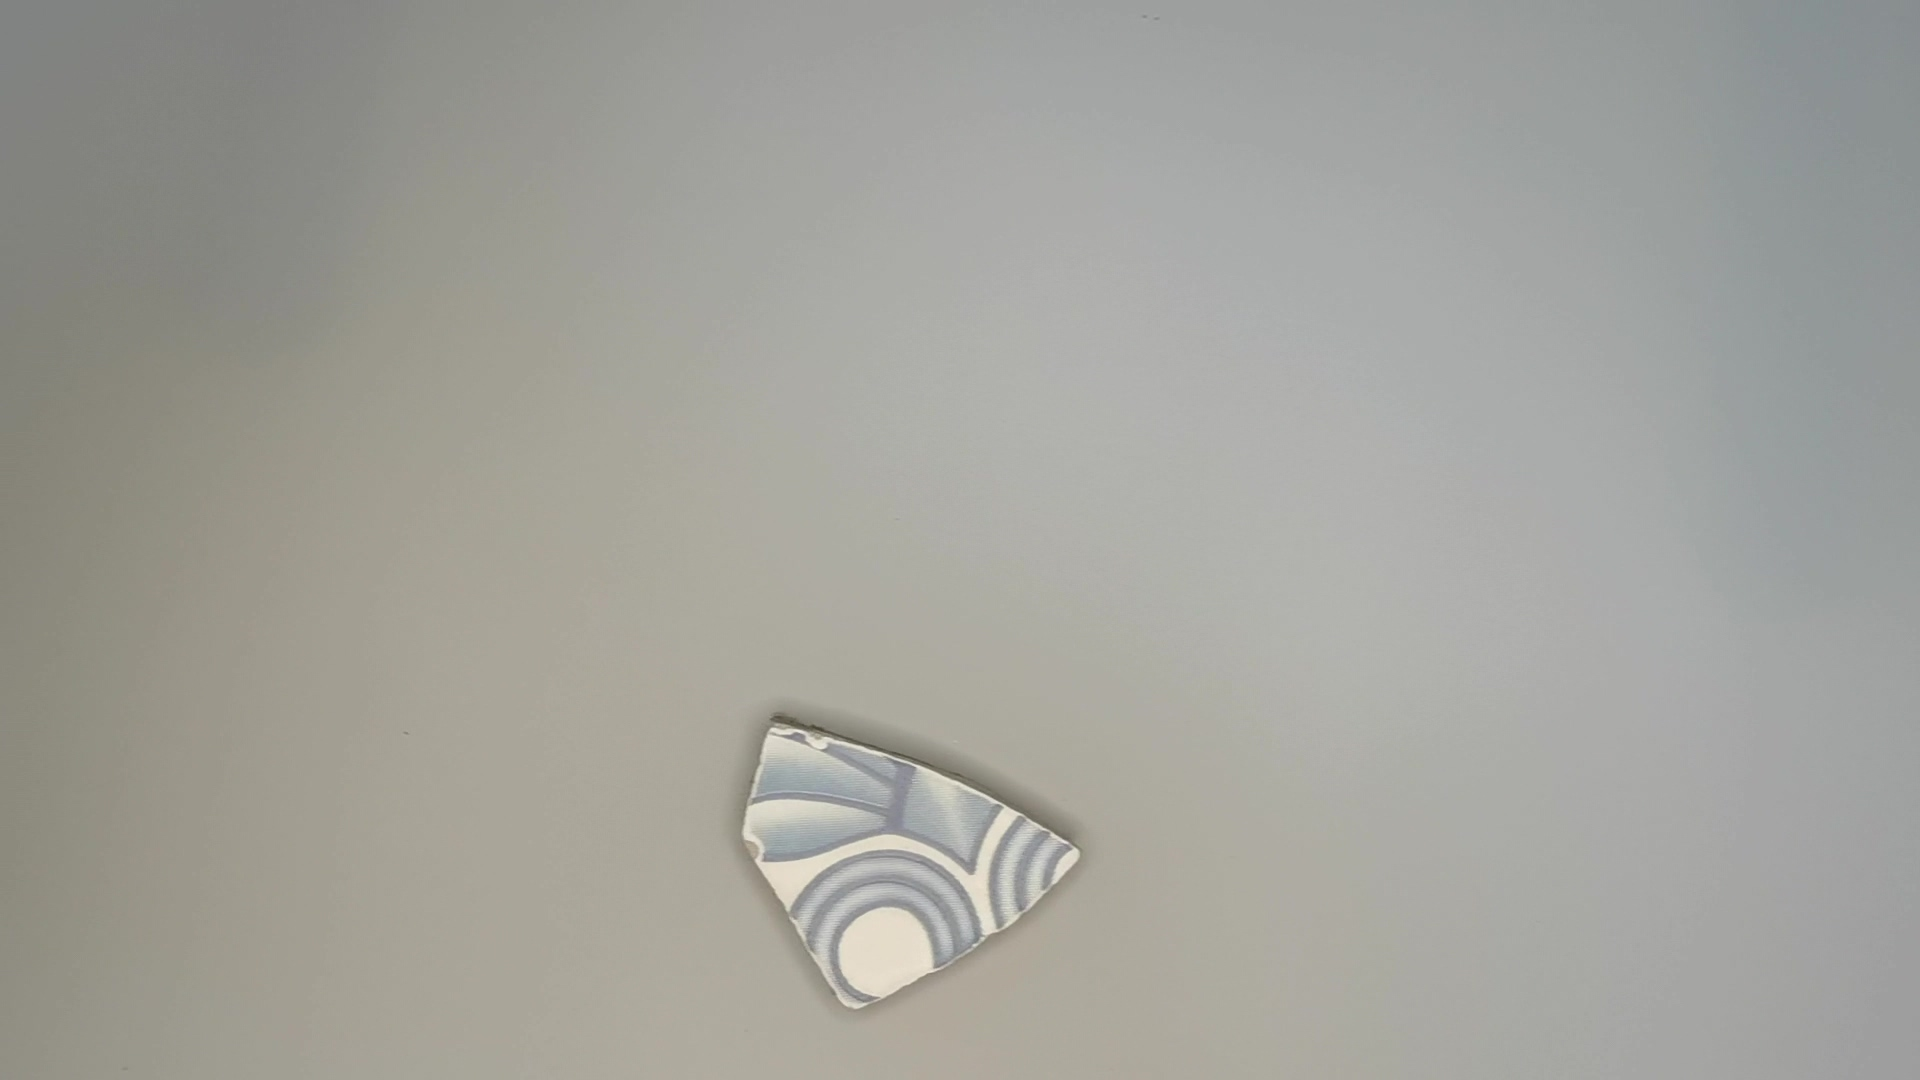ceramic: (729, 712, 1081, 1019)
